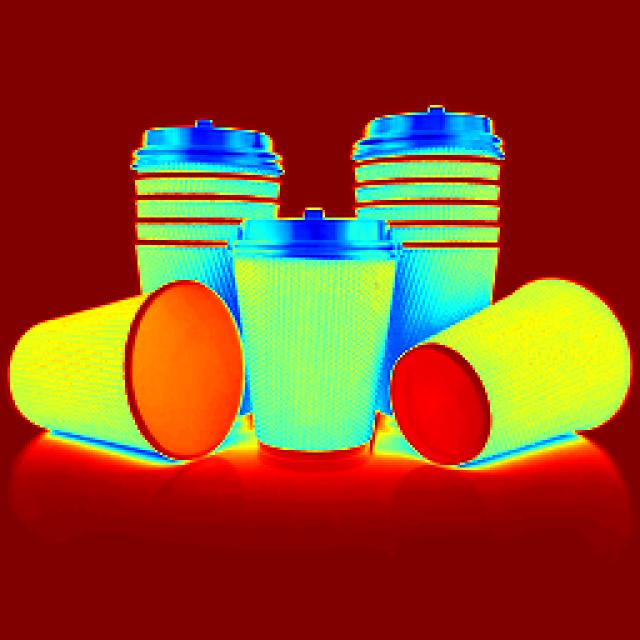Paper Cups: (388, 269, 628, 502), (224, 207, 392, 457), (11, 298, 224, 466), (364, 138, 506, 322), (135, 119, 275, 268)
